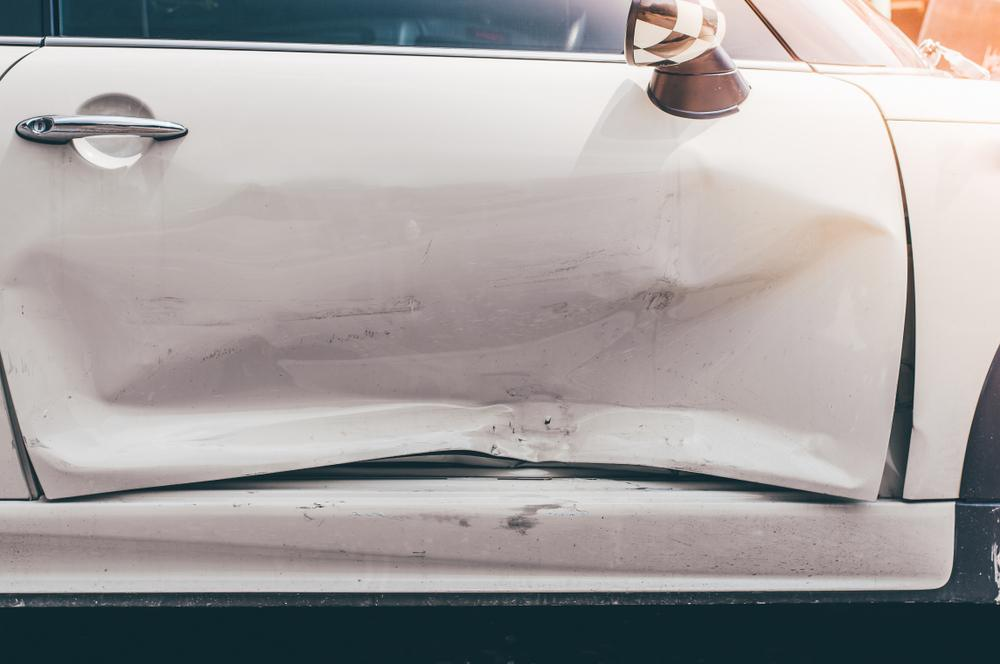dent: (0, 171, 907, 491)
scratch: (346, 502, 574, 539)
